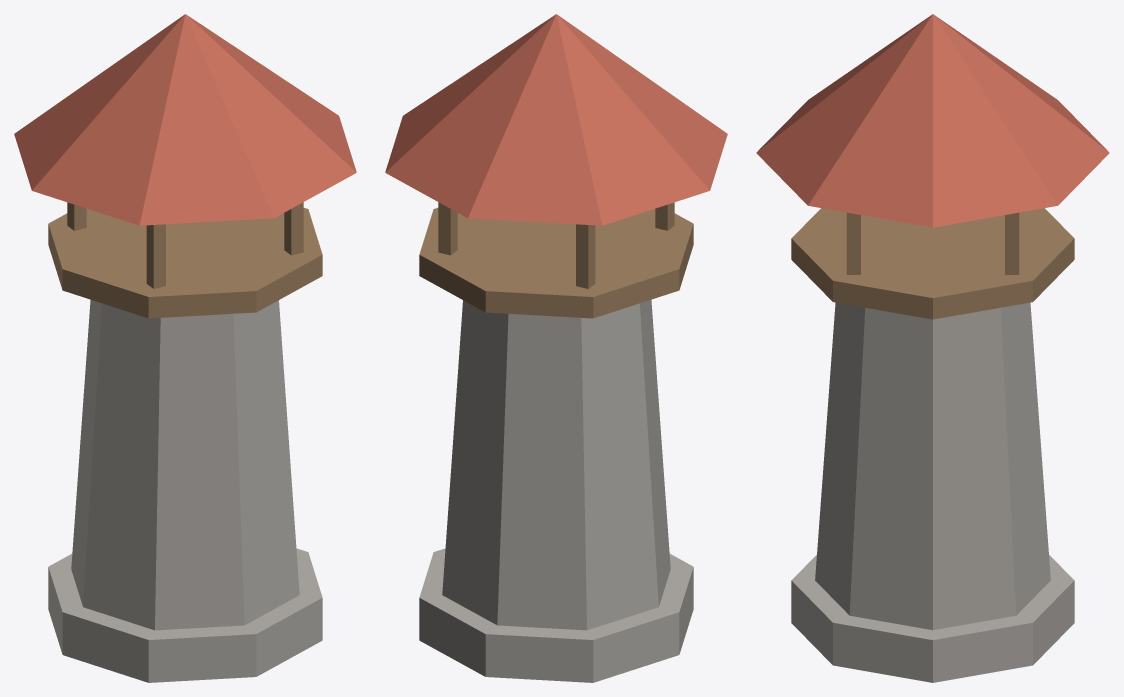
File: test_tower.glb
3 views of the same model, side by side, from view 1: azimuth 30°, elevation 25°; view 2: azimuth 150°, elevation 25°; view 3: azimuth 270°, elevation 25° (orthographic).
Parts seen in each view (by area): view 1: TestTower; view 2: TestTower; view 3: TestTower.
Boxes of the visible parts, x1,y1,x2,y2 form: TestTower: (14,14,356,682); TestTower: (385,14,727,682); TestTower: (756,14,1109,682).
Bounding box in the file's own units: 3 × 5.7 × 3.
